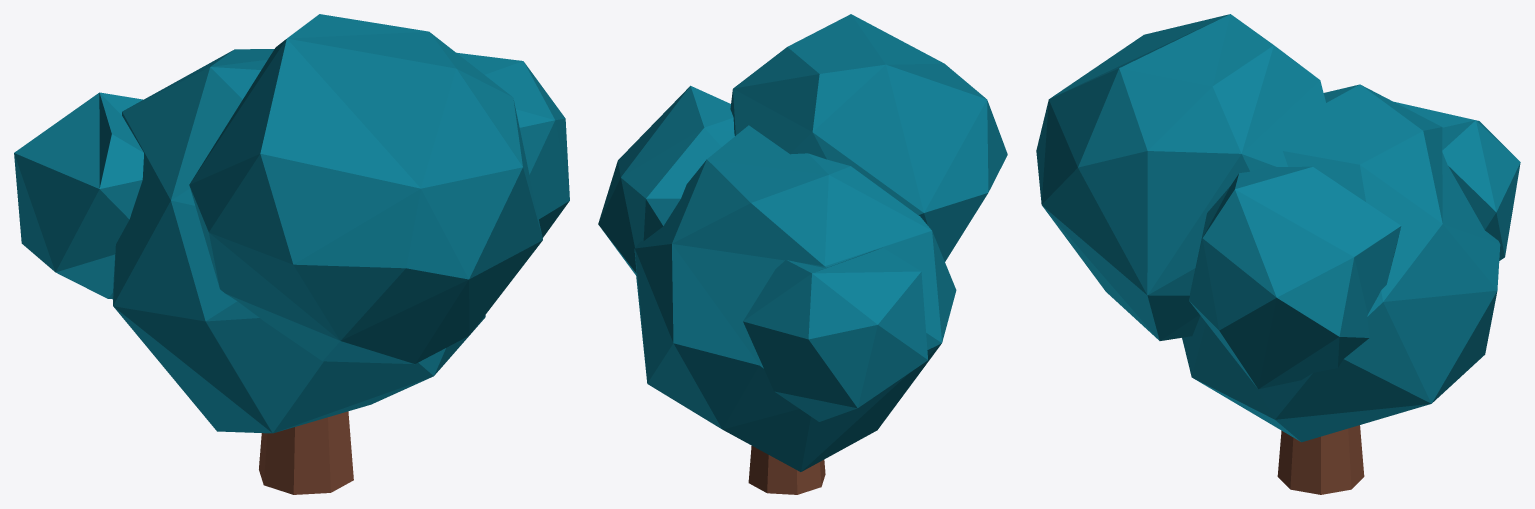
File: Bush_5_summer_blue_vc.fbx
The picture shows the model from 3 angles, left to right: view 1: azimuth 30°, elevation 25°; view 2: azimuth 150°, elevation 25°; view 3: azimuth 270°, elevation 25°; orthographic projection. The views are drawn at different scales.
Visible parts, largest first — view 1: Bush_5_summer_blue_vc; view 2: Bush_5_summer_blue_vc; view 3: Bush_5_summer_blue_vc.
Boxes of the visible parts, x1,y1,x2,y2 form: Bush_5_summer_blue_vc: (14,14,569,494); Bush_5_summer_blue_vc: (598,14,1007,494); Bush_5_summer_blue_vc: (1036,14,1520,494).
Bounding box in the file's own units: 31.34 × 32.92 × 33.43.
